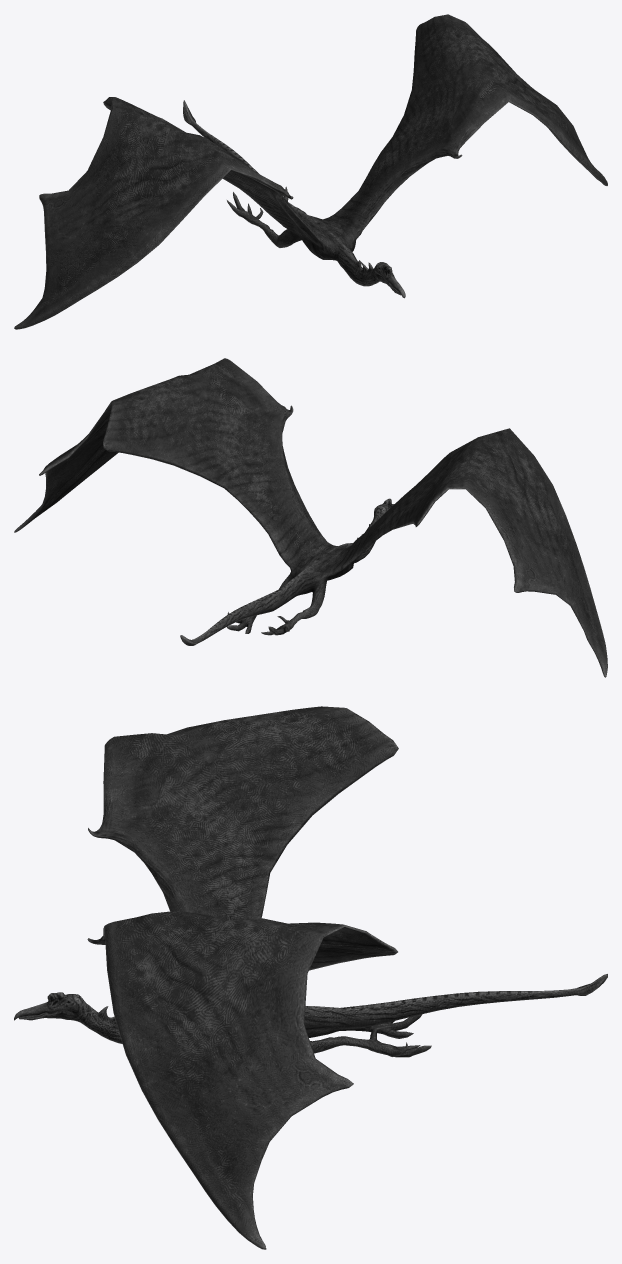
The model's file is Fellbeast_FlyAnim_6.obj.
3 views of the same model, one above another, from view 1: azimuth 30°, elevation 25°; view 2: azimuth 150°, elevation 25°; view 3: azimuth 270°, elevation 25° (orthographic). The views are drawn at different scales.
Parts seen in each view (by area): view 1: Fellbeast; view 2: Fellbeast; view 3: Fellbeast.
Boxes of the visible parts, x1,y1,x2,y2 form: Fellbeast: (14, 14, 607, 329); Fellbeast: (14, 358, 607, 677); Fellbeast: (14, 706, 607, 1249).
Bounding box in the file's own units: 6.69 × 1.95 × 4.35.
